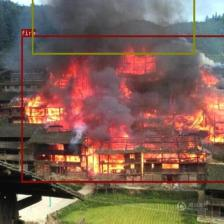fire: (20, 35, 224, 182)
smoke: (32, 0, 194, 54)
